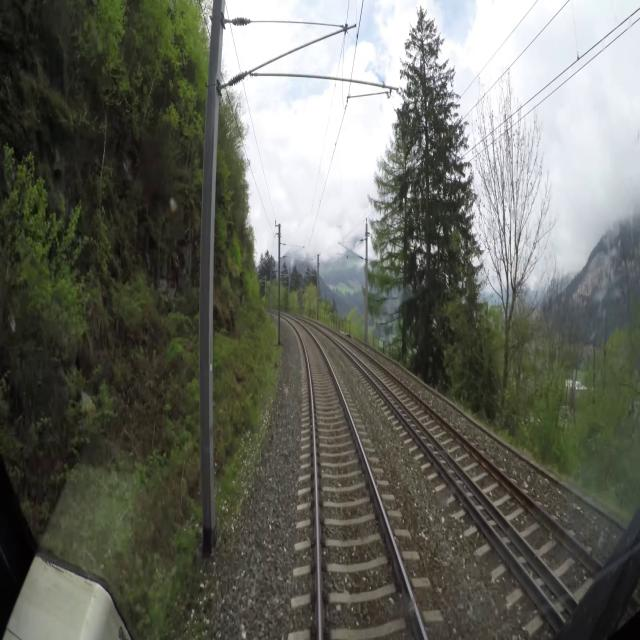rail-track: (336, 335, 567, 557), (291, 320, 422, 639), (382, 387, 539, 576)
